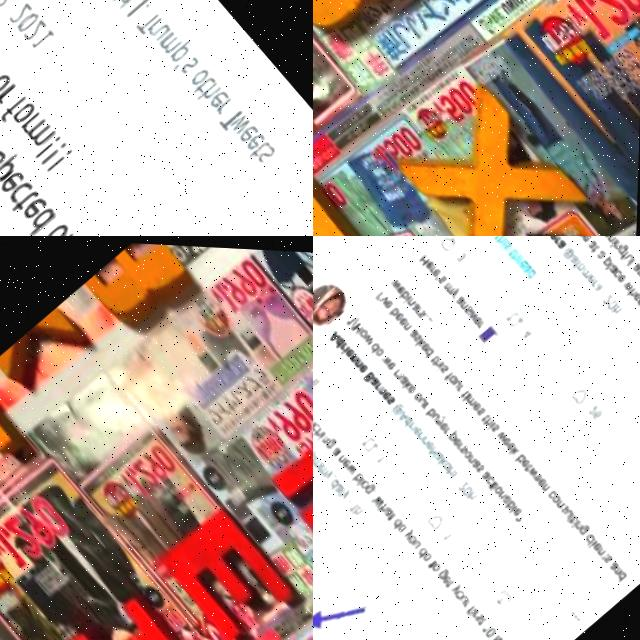0: (13, 3, 42, 31), (487, 619, 501, 634), (462, 479, 477, 493), (606, 291, 620, 306)
1: (29, 21, 56, 48), (349, 496, 363, 510), (483, 615, 496, 628), (346, 310, 358, 322), (444, 526, 455, 536), (378, 450, 387, 459)
2: (21, 12, 50, 40), (5, 0, 34, 24), (602, 286, 615, 300), (458, 474, 471, 487), (588, 398, 600, 409)
3: (455, 245, 468, 259)
4: (522, 322, 534, 335)
6: (593, 403, 604, 414), (313, 373, 322, 384)
E: (159, 495, 311, 640)
I: (58, 573, 217, 640)
W: (270, 415, 313, 573)
X: (392, 69, 599, 236)
